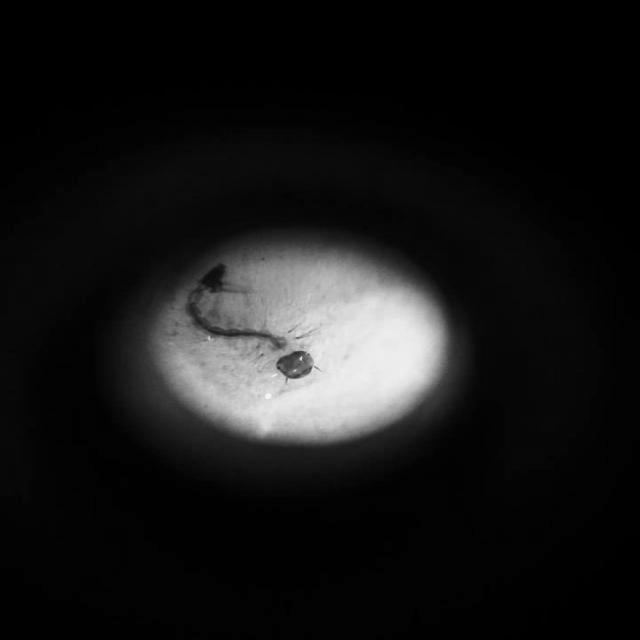larvas: (186, 268, 312, 377)
